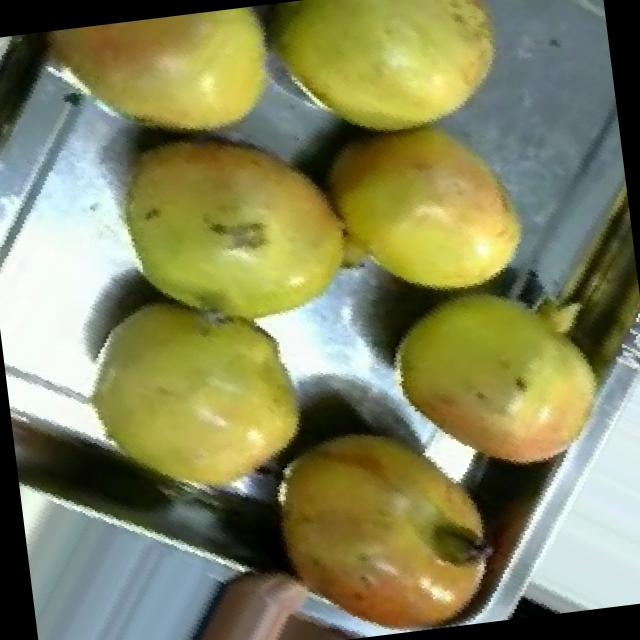fruit: (86, 92, 387, 367), (223, 378, 526, 640), (347, 246, 640, 513), (288, 91, 552, 331)
